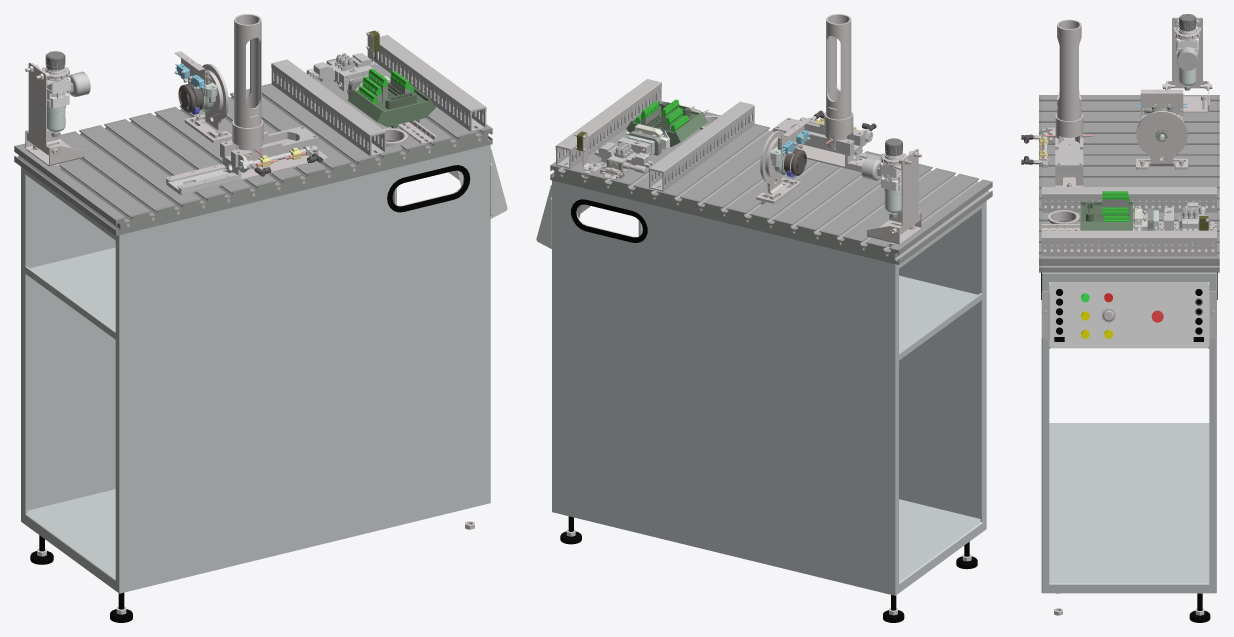
File: Tram_cap_phoi_thieu.glb
The picture shows the model from 3 angles, left to right: view 1: azimuth 30°, elevation 25°; view 2: azimuth 150°, elevation 25°; view 3: azimuth 270°, elevation 25°; orthographic projection. The views are drawn at different scales.
Visible parts, largest first — view 1: Ban_thi_nghiem, Tam_nhom_co_ranh, Mach_dieu_khien-Nhua_boc (×2), Tam_nhom_co_ranh-Nap, Module_cap_phoi-Ong_cap_phoi_tren, Module_cap_phoi-De_chua_phoi, Mach_dieu_khien-IO_Terminal-Vo_mach, Bo_dieu_ap-Ga_tren, Ban_thi_nghiem-Dem, Bo_dieu_ap-Van, Module_tay_xoay-Ga_xylanh_quay, Bo_dieu_ap-Ga_duoi (+4 smaller); view 2: Ban_thi_nghiem, Tam_nhom_co_ranh, Mach_dieu_khien-Nhua_boc (×2), Tam_nhom_co_ranh-Nap, Module_cap_phoi-Ong_cap_phoi_tren, Bo_dieu_ap-Ga_tren, Module_cap_phoi-De_chua_phoi, Ban_thi_nghiem-Dem, Bo_dieu_ap-Van, Module_tay_xoay-Ga_xylanh_quay, Bo_dieu_ap-Ga_duoi, Mach_dieu_khien-IO_Terminal-Vo_mach (+3 smaller); view 3: Ban_thi_nghiem, Tam_nhom_co_ranh, Bang_dieu_khien, Mach_dieu_khien-Nhua_boc (×2), Module_tay_xoay-Ga_xylanh_quay, Module_cap_phoi-Ong_cap_phoi_tren, Module_cap_phoi-De_chua_phoi, Tam_nhom_co_ranh-Nap (×2), Module_tay_xoay-Ga_van, Bo_dieu_ap-Ga_tren, Bo_dieu_ap-Van, Mach_dieu_khien-IO_Terminal-Vo_mach (+7 smaller).
Boxes of the visible parts, x1,y1,x2,y2 form: Ban_thi_nghiem: [21, 144, 490, 593]; Tam_nhom_co_ranh: [16, 61, 490, 234]; Mach_dieu_khien-Nhua_boc (×2): [271, 35, 486, 156]; Tam_nhom_co_ranh-Nap: [114, 127, 492, 235]; Module_cap_phoi-Ong_cap_phoi_tren: [234, 14, 261, 127]; Module_cap_phoi-De_chua_phoi: [220, 126, 318, 167]; Mach_dieu_khien-IO_Terminal-Vo_mach: [347, 82, 435, 128]; Bo_dieu_ap-Ga_tren: [26, 62, 58, 155]; Ban_thi_nghiem-Dem: [387, 165, 470, 212]; Bo_dieu_ap-Van: [45, 62, 70, 137]; Module_tay_xoay-Ga_xylanh_quay: [184, 63, 232, 142]; Bo_dieu_ap-Ga_duoi: [25, 130, 84, 165]; Ban_thi_nghiem: [552, 180, 986, 595]; Tam_nhom_co_ranh: [552, 102, 991, 263]; Mach_dieu_khien-Nhua_boc (×2): [555, 79, 754, 191]; Tam_nhom_co_ranh-Nap: [550, 164, 899, 264]; Module_cap_phoi-Ong_cap_phoi_tren: [826, 14, 851, 119]; Bo_dieu_ap-Ga_tren: [890, 149, 920, 234]; Module_cap_phoi-De_chua_phoi: [773, 117, 864, 155]; Ban_thi_nghiem-Dem: [571, 199, 647, 242]; Bo_dieu_ap-Van: [879, 149, 903, 217]; Module_tay_xoay-Ga_xylanh_quay: [756, 130, 800, 203]; Bo_dieu_ap-Ga_duoi: [867, 211, 921, 244]; Mach_dieu_khien-IO_Terminal-Vo_mach: [626, 101, 707, 146]; Ban_thi_nghiem: [1041, 272, 1216, 593]; Tam_nhom_co_ranh: [1041, 95, 1216, 272]; Bang_dieu_khien: [1041, 282, 1216, 348]; Mach_dieu_khien-Nhua_boc (×2): [1041, 187, 1216, 256]; Module_tay_xoay-Ga_xylanh_quay: [1136, 110, 1187, 169]; Module_cap_phoi-Ong_cap_phoi_tren: [1057, 19, 1081, 121]; Module_cap_phoi-De_chua_phoi: [1055, 127, 1083, 173]; Tam_nhom_co_ranh-Nap (×2): [1039, 95, 1219, 272]; Module_tay_xoay-Ga_van: [1140, 89, 1183, 116]; Bo_dieu_ap-Ga_tren: [1167, 17, 1208, 90]; Bo_dieu_ap-Van: [1176, 24, 1198, 90]; Mach_dieu_khien-IO_Terminal-Vo_mach: [1080, 201, 1132, 230].
Bounding box in the file's own units: 0.7939 × 1.07 × 0.384.
